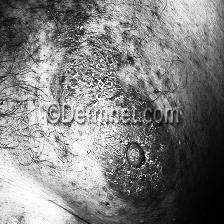Non-Cancerous Skin Condition: (53, 41, 122, 103), (161, 134, 195, 202)
